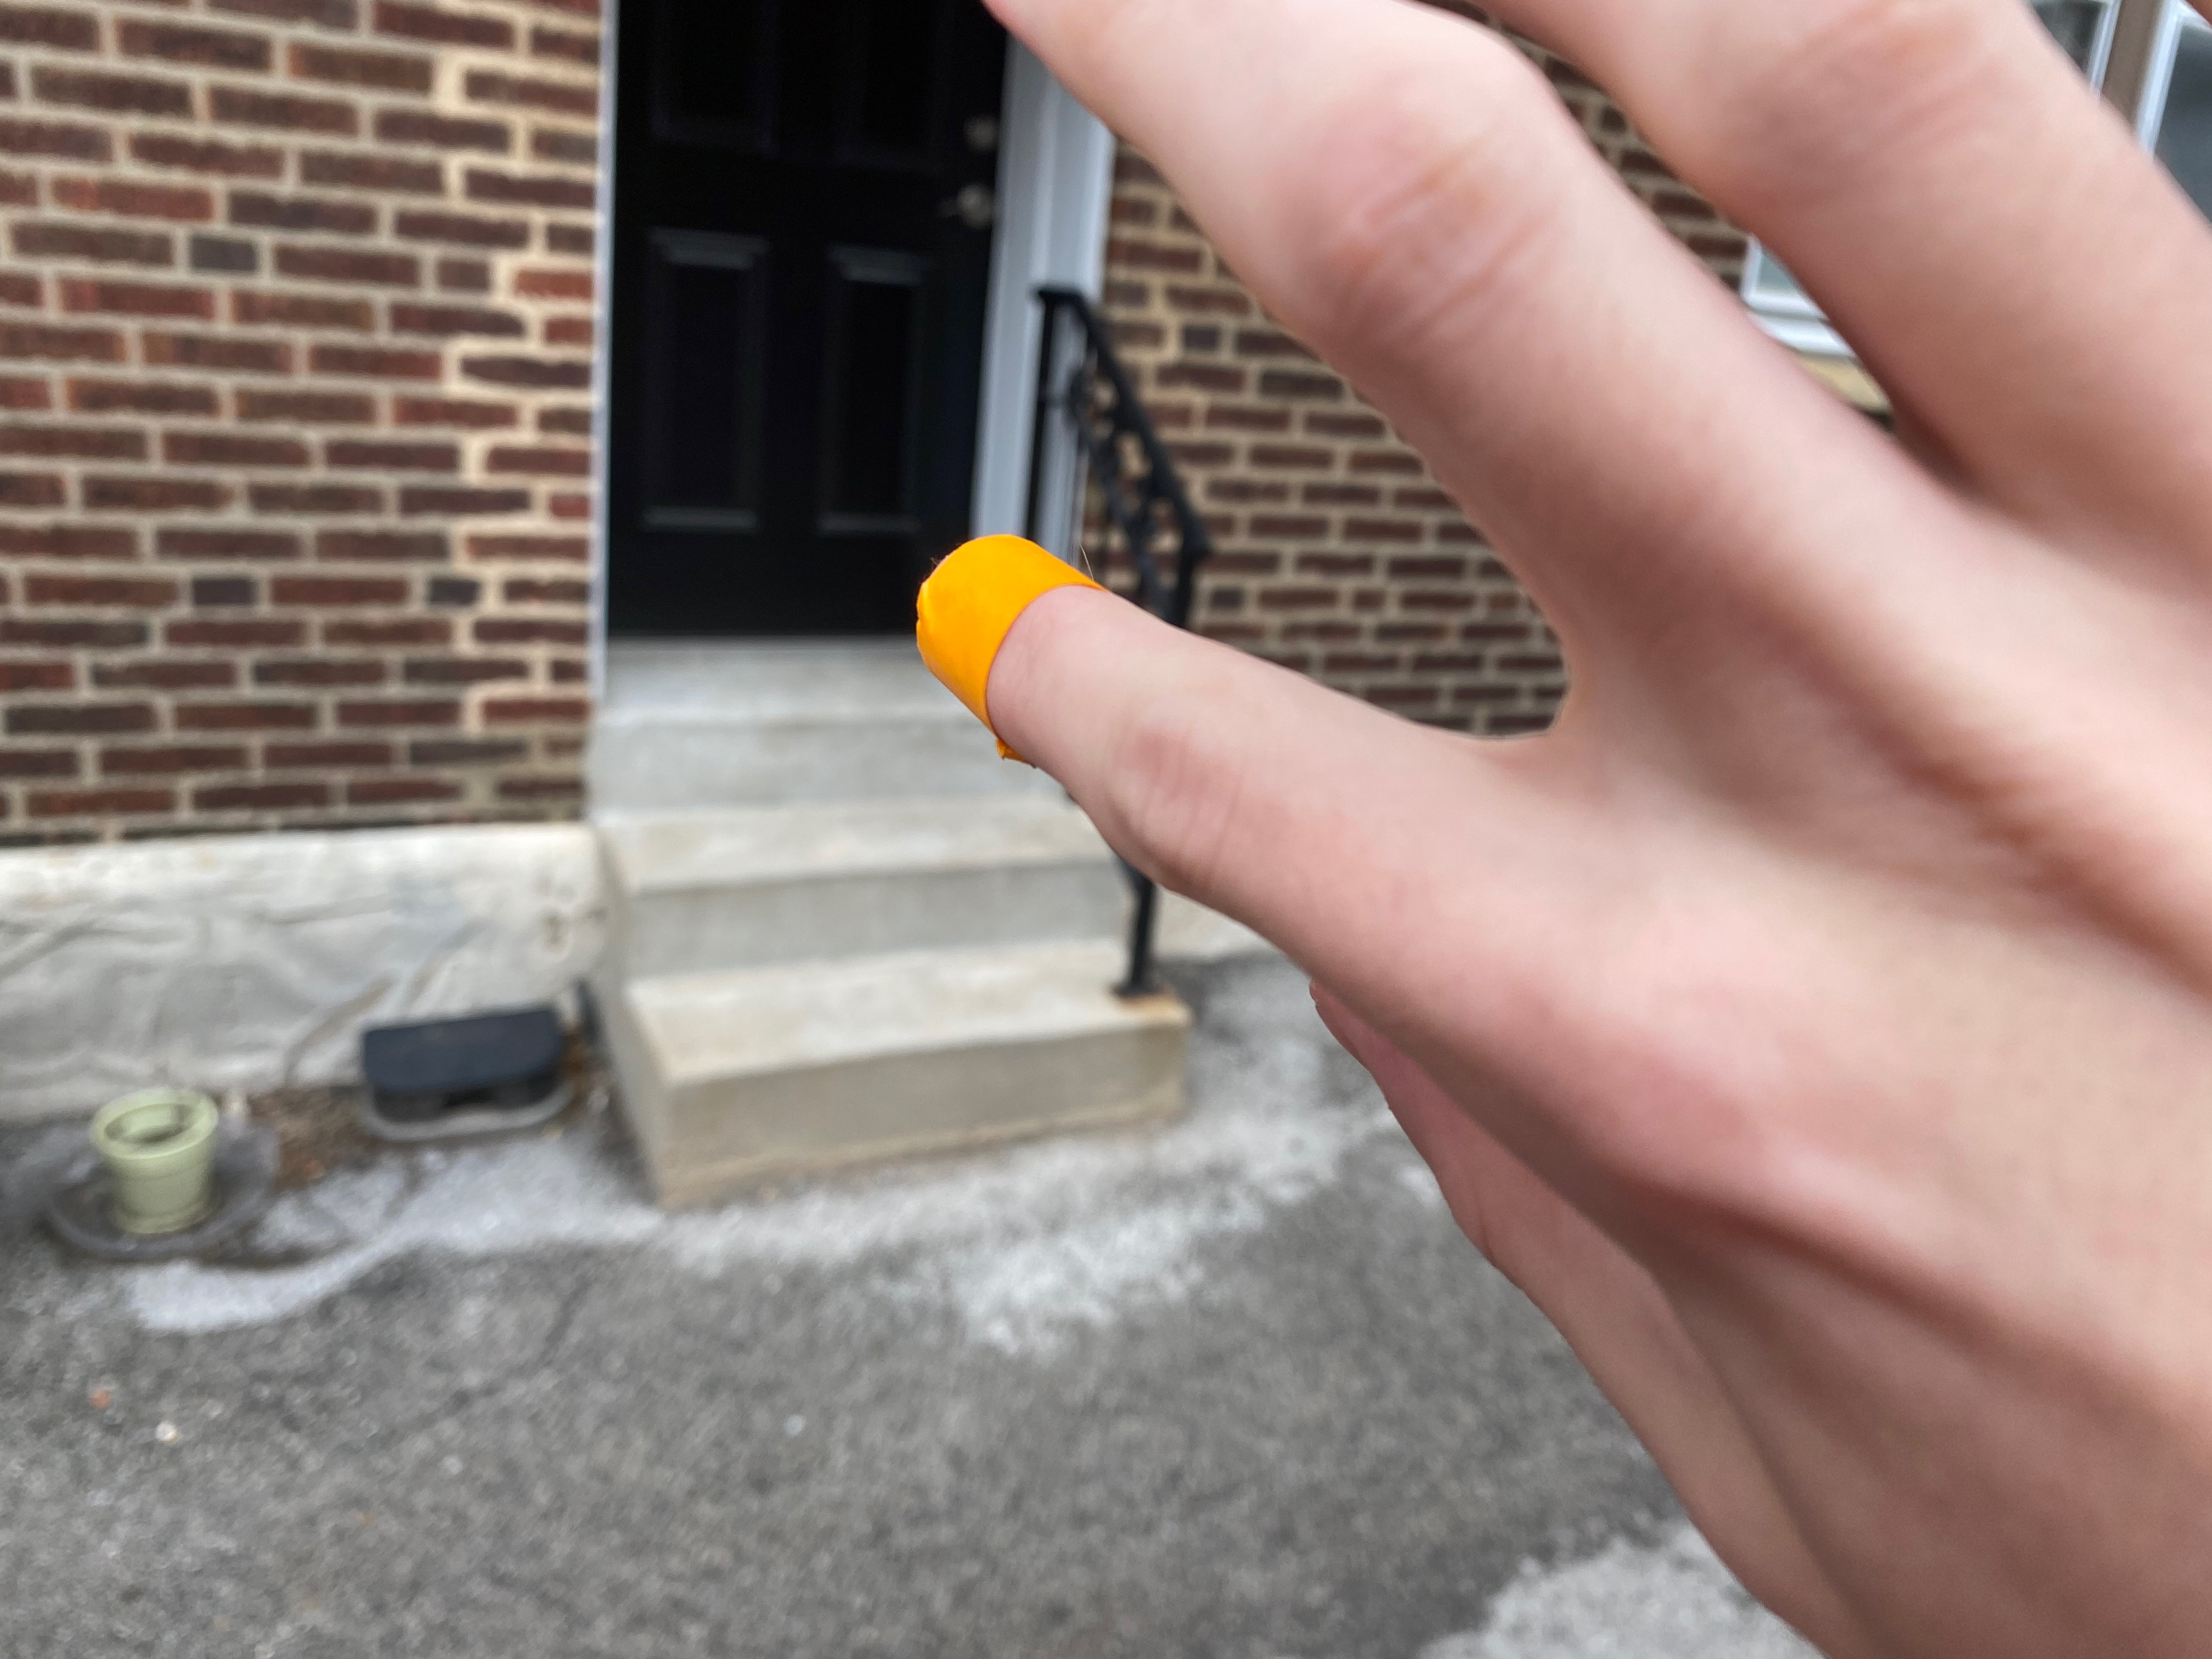fingertip: (887, 498, 1120, 751)
